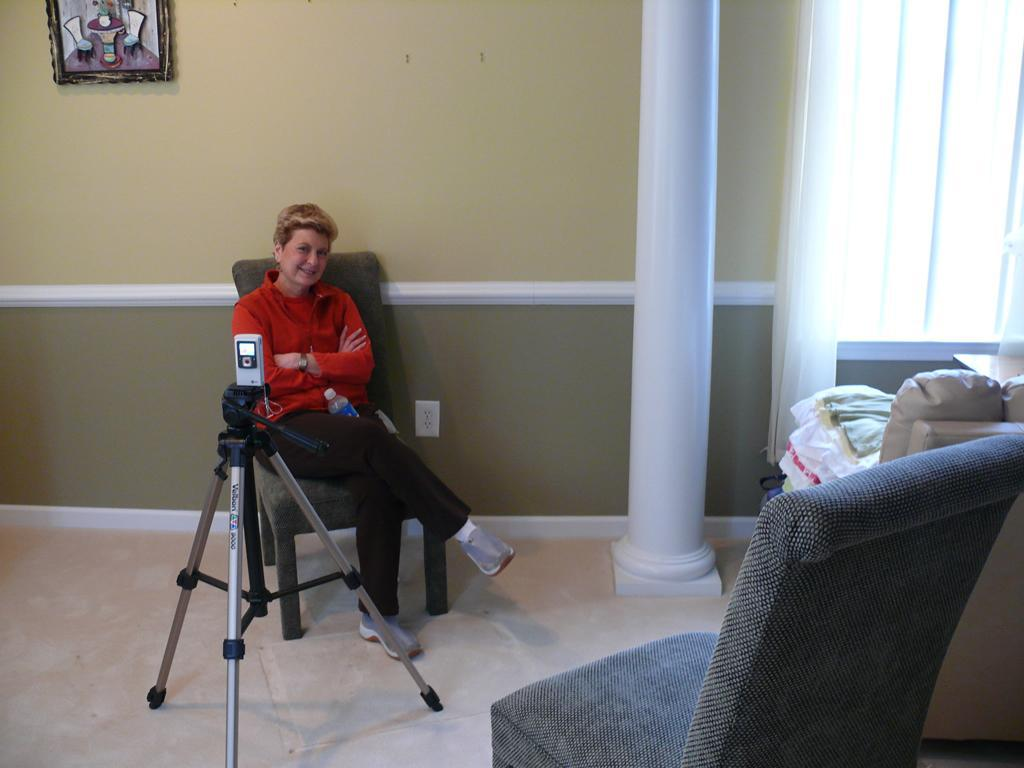face: (283, 231, 330, 288)
